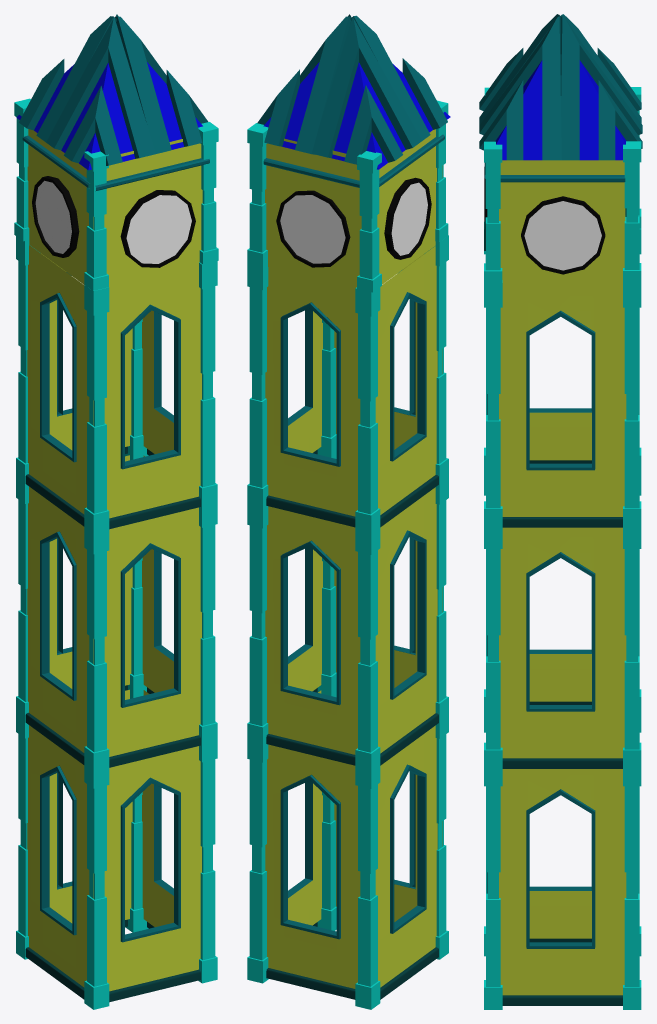
The model's file is Building_3_Marsh_Jeremy.fbx.
3 views of the same model, side by side, from view 1: azimuth 30°, elevation 25°; view 2: azimuth 150°, elevation 25°; view 3: azimuth 270°, elevation 25° (orthographic).
Parts seen in each view (by area): view 1: Clock2; view 2: Clock2; view 3: Clock2.
Boxes of the visible parts, bbox=[...] form: Clock2: bbox=[14, 14, 218, 1009]; Clock2: bbox=[247, 14, 450, 1009]; Clock2: bbox=[479, 14, 642, 1009].
Bounding box in the file's own units: 11.11 × 71.88 × 11.06.
